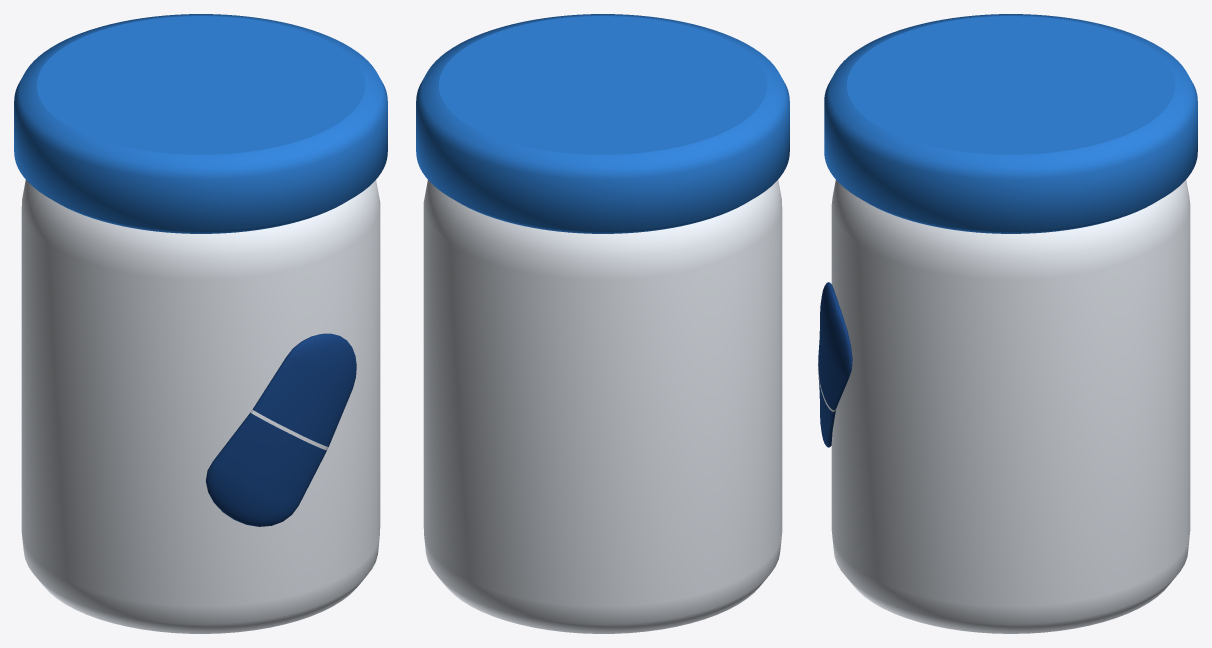
Rendered from medicine_3d.glb.
3 renders of one model, left to right at view 1: azimuth 30°, elevation 25°; view 2: azimuth 150°, elevation 25°; view 3: azimuth 270°, elevation 25°, orthographic.
Visible parts, largest first — view 1: Bottle_Body, Bottle_Cap; view 2: Bottle_Body, Bottle_Cap; view 3: Bottle_Body, Bottle_Cap.
Boxes of the visible parts, left/top/right/bottom form: Bottle_Body: left=21, top=180, right=380, bottom=633; Bottle_Cap: left=14, top=14, right=387, bottom=233; Bottle_Body: left=423, top=180, right=782, bottom=633; Bottle_Cap: left=416, top=14, right=789, bottom=233; Bottle_Body: left=818, top=179, right=1190, bottom=633; Bottle_Cap: left=824, top=14, right=1197, bottom=233.
Bounding box in the file's own units: 1.98 × 2.83 × 2.01.
